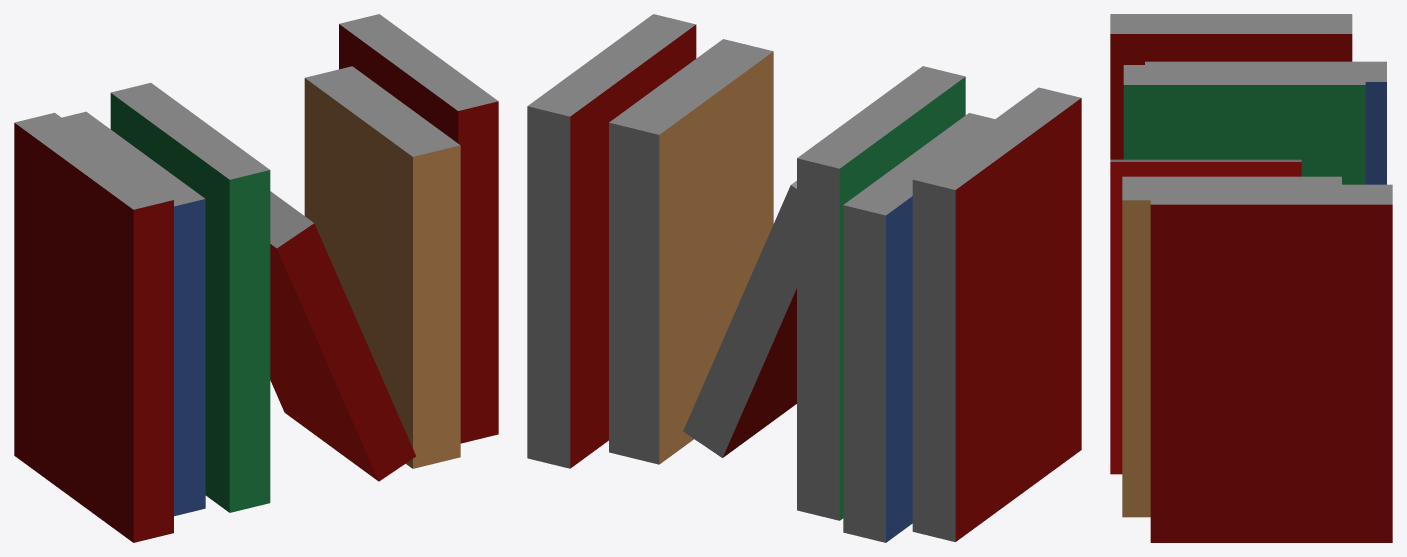
File: Books03.glb
The picture shows the model from 3 angles, left to right: view 1: azimuth 30°, elevation 25°; view 2: azimuth 150°, elevation 25°; view 3: azimuth 270°, elevation 25°; orthographic projection. The views are drawn at different scales.
Parts seen in each view (by area): view 1: Books03; view 2: Books03; view 3: Books03.
Boxes of the visible parts, left/top/right/bottom form: Books03: left=14, top=14, right=498, bottom=542; Books03: left=527, top=14, right=1081, bottom=542; Books03: left=1110, top=14, right=1392, bottom=542.
Bounding box in the file's own units: 0.3546 × 0.2931 × 0.222.
